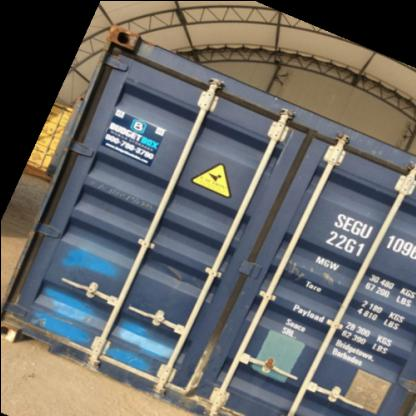Damage: (163, 348, 222, 394), (9, 312, 87, 342)
